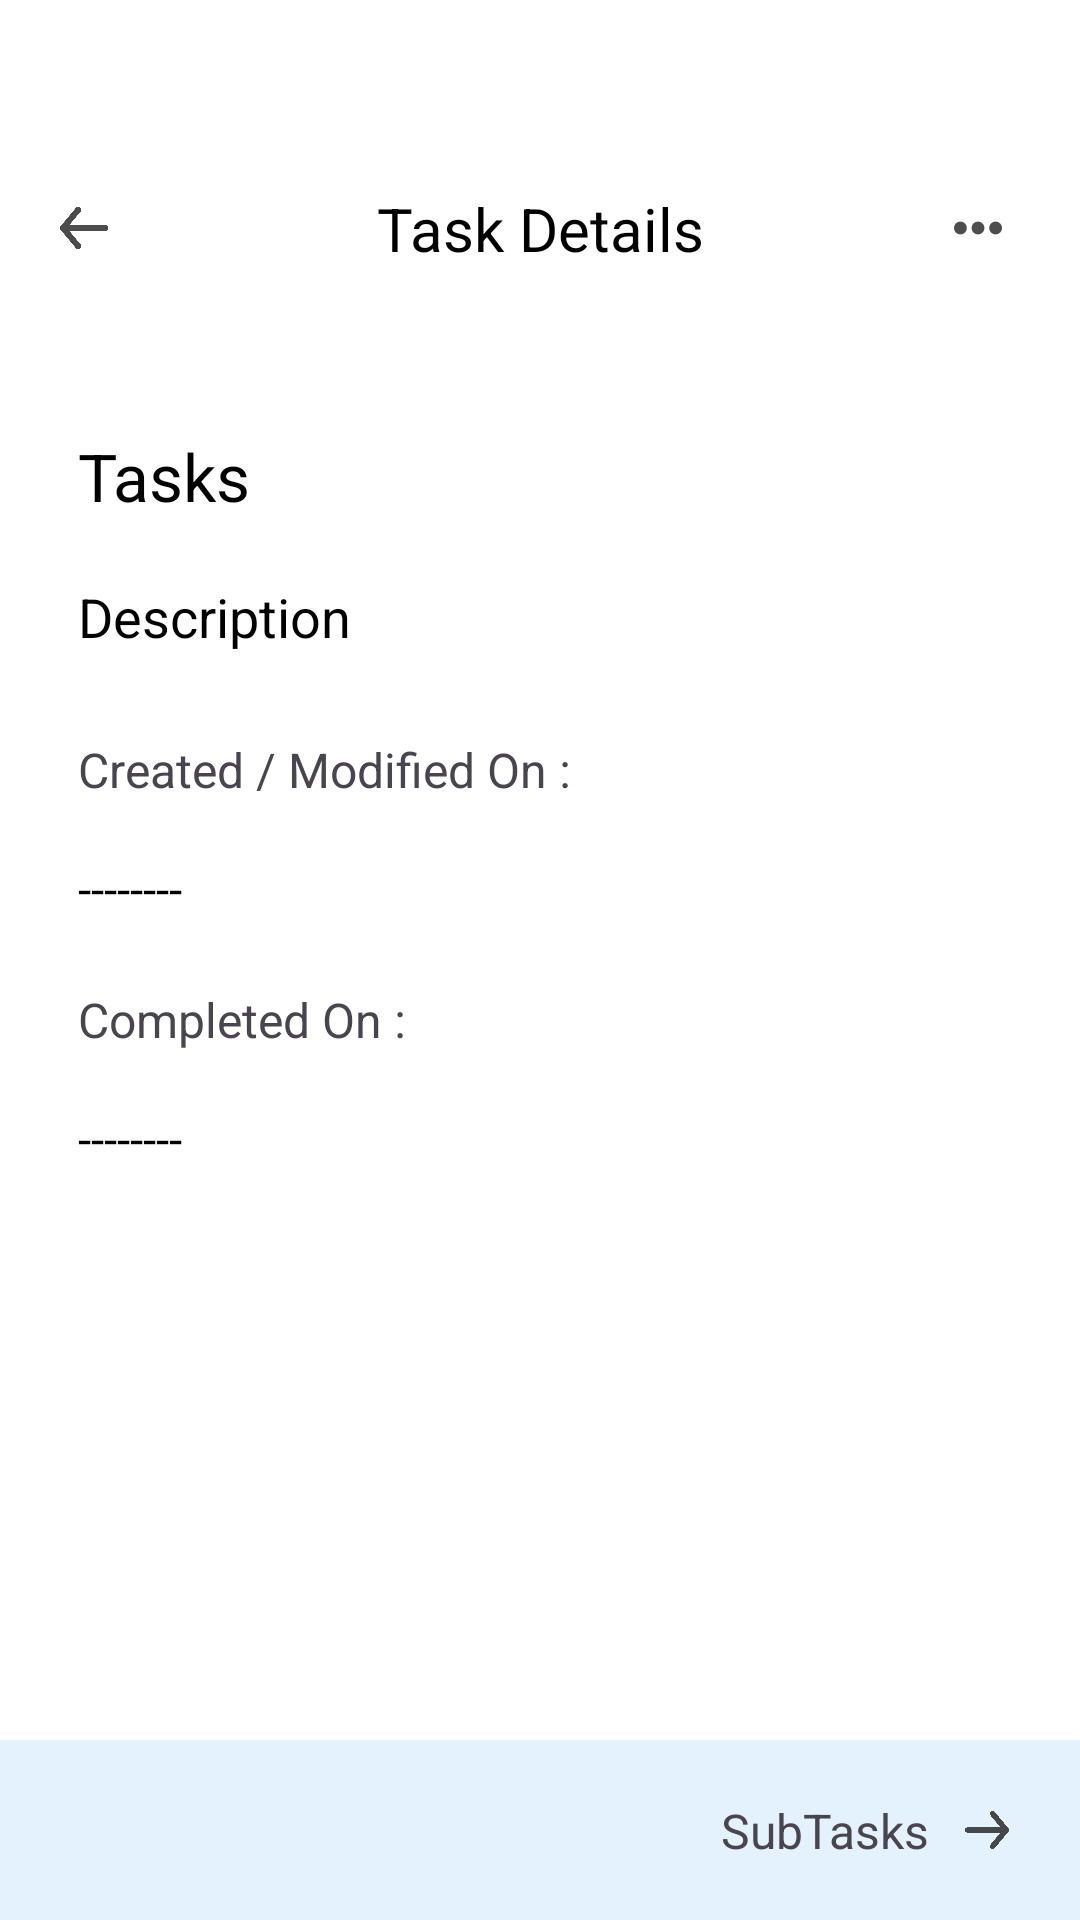

Where to tap for icons on this 1080 × 1920 app screen, as (x,y):
options: (978,228)
